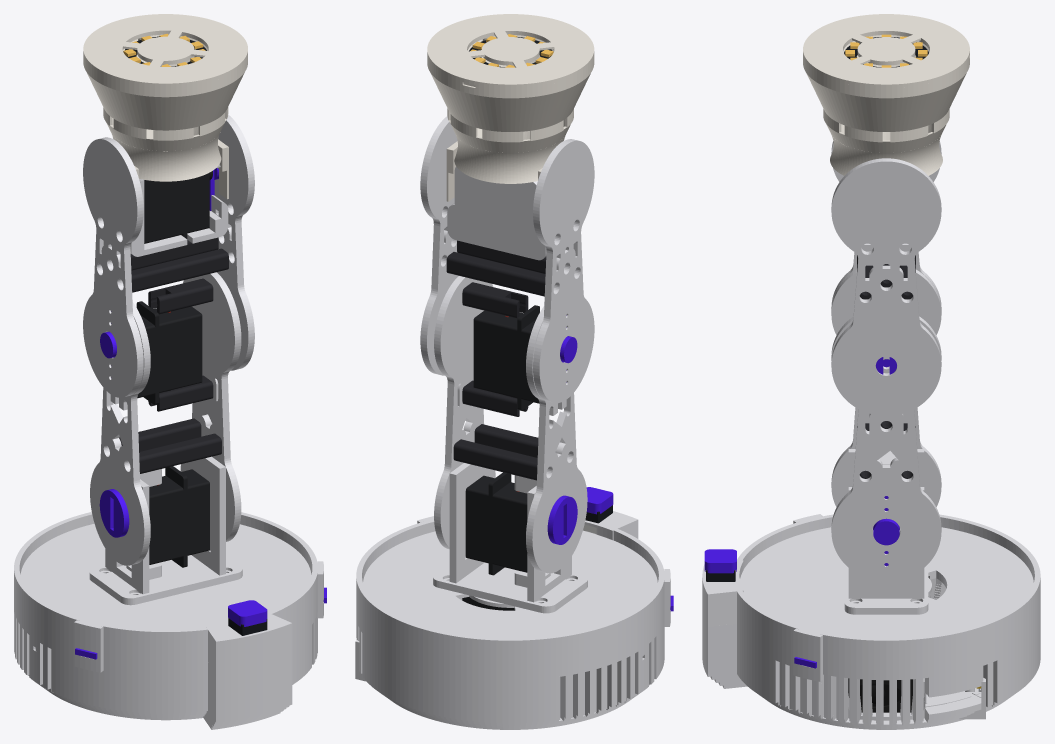
The model's file is hotaru.glb.
The picture shows the model from 3 angles, left to right: view 1: azimuth 30°, elevation 25°; view 2: azimuth 150°, elevation 25°; view 3: azimuth 270°, elevation 25°; orthographic projection.
Visible parts, largest first — view 1: v2-tub, v2-disc, v2-link2-in, shade, v2-conecap, v2-tower, v2-link1-out, v2-link1-in, v2-link2-out, sh-mg996r-body, el-mg996r-body, hd-mg996r-body (+6 smaller); view 2: v2-tub, v2-disc, v2-link2-in, shade, v2-conecap, v2-tower, v2-link1-out, v2-link1-in, v2-head, sh-mg996r-body, v2-link2-out, el-mg996r-body (+5 smaller); view 3: v2-tub, v2-link2-out, v2-disc, v2-link1-in, shade, v2-conecap, v2-link1-out, v2-tower, v2-keycap, horn-shoulder-shorn-hub.
Boxes of the visible parts, <box> form: v2-tub: <box>14,512,323,729</box>; v2-disc: <box>20,523,311,629</box>; v2-link2-in: <box>83,137,143,397</box>; shade: <box>83,34,247,199</box>; v2-conecap: <box>83,14,247,87</box>; v2-tower: <box>89,456,242,605</box>; v2-link1-out: <box>90,302,150,565</box>; v2-link1-in: <box>180,272,241,541</box>; v2-link2-out: <box>214,114,254,370</box>; sh-mg996r-body: <box>149,469,209,564</box>; el-mg996r-body: <box>137,306,202,398</box>; hd-mg996r-body: <box>144,172,209,243</box>; v2-tub: <box>355,511,670,729</box>; v2-disc: <box>363,531,657,638</box>; v2-link2-in: <box>533,139,594,402</box>; shade: <box>427,35,594,201</box>; v2-conecap: <box>427,14,594,88</box>; v2-tower: <box>433,463,587,613</box>; v2-link1-out: <box>526,306,587,573</box>; v2-link1-in: <box>434,276,495,549</box>; v2-head: <box>447,166,546,260</box>; sh-mg996r-body: <box>465,475,527,572</box>; v2-link2-out: <box>420,116,458,375</box>; el-mg996r-body: <box>473,310,539,403</box>; v2-tub: <box>702,514,1040,729</box>; v2-link2-out: <box>831,158,941,415</box>; v2-disc: <box>739,527,1033,638</box>; v2-link1-in: <box>831,316,941,581</box>; shade: <box>803,35,969,175</box>; v2-conecap: <box>803,14,969,88</box>; v2-link1-out: <box>831,269,941,506</box>; v2-tower: <box>844,449,928,614</box>; v2-keycap: <box>704,549,736,573</box>; horn-shoulder-shorn-hub: <box>873,518,899,545</box>.
Size of the model in its own units: 0.1624 by 0.3619 by 0.1782.
